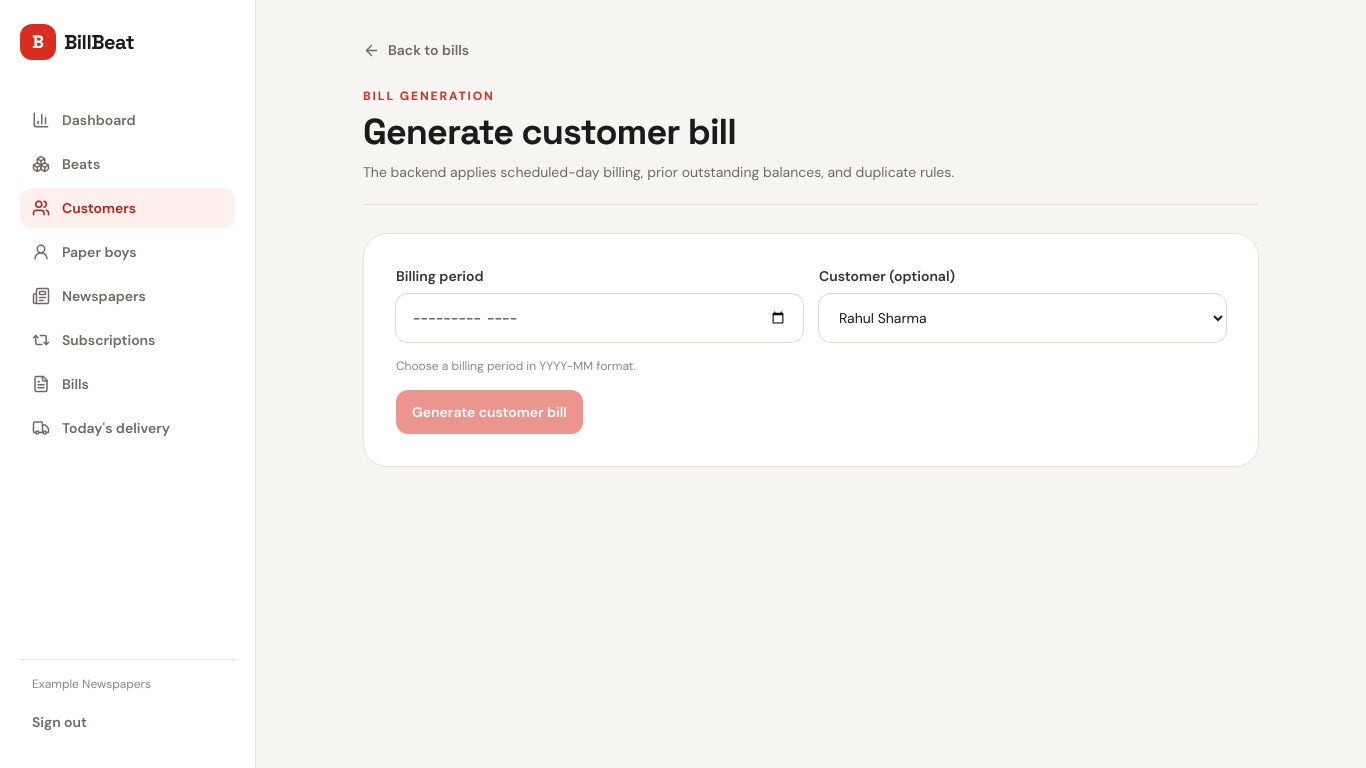
Scenario: bill generation › validates period, sends customer-specific payload, and displays generated bills
Check: the button "Generate customer bill" is disabled, box x1=396 y1=390 x2=583 y2=434
Type "2026-08" into the field labelled "Billing period". click: (600, 318)
box: x1=396 y1=294 x2=803 y2=342
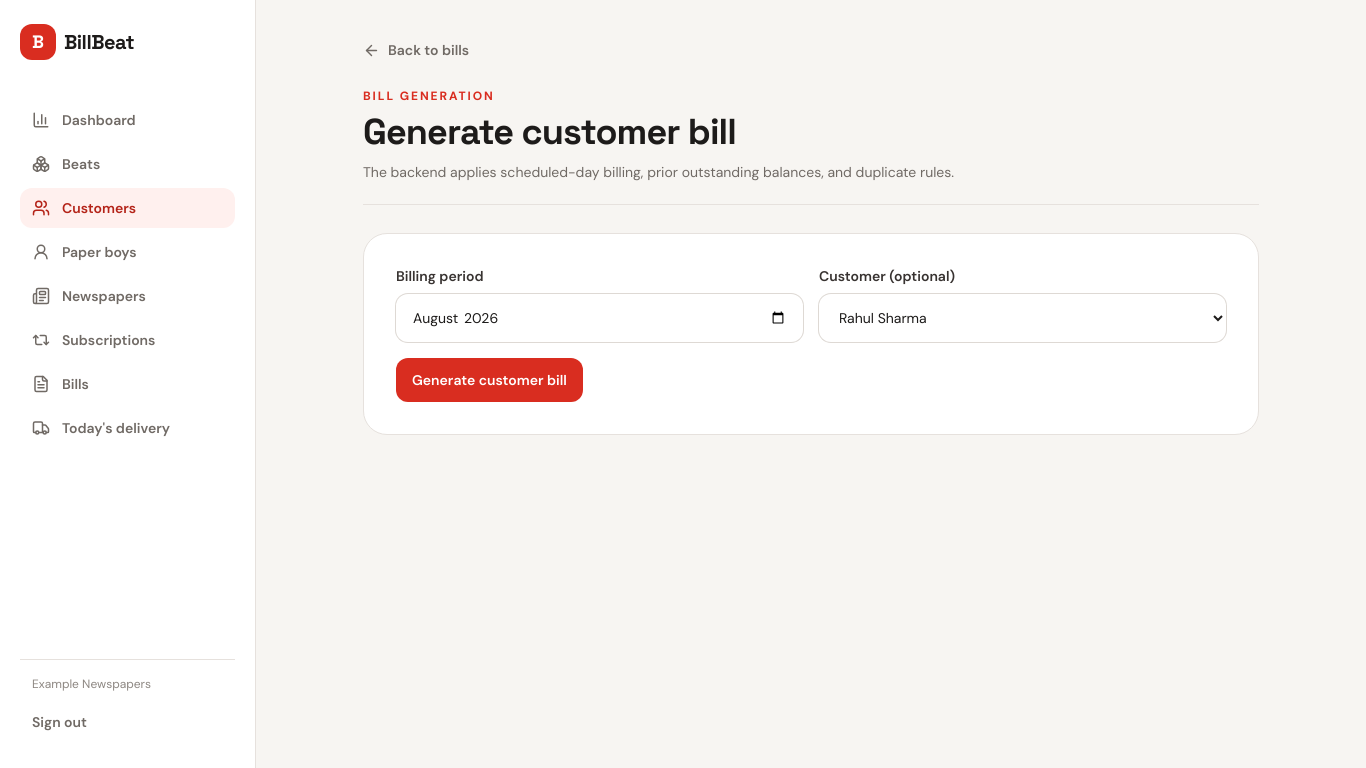
Click the button "Generate customer bill". click: click(489, 380)
box: x1=396 y1=358 x2=583 y2=402
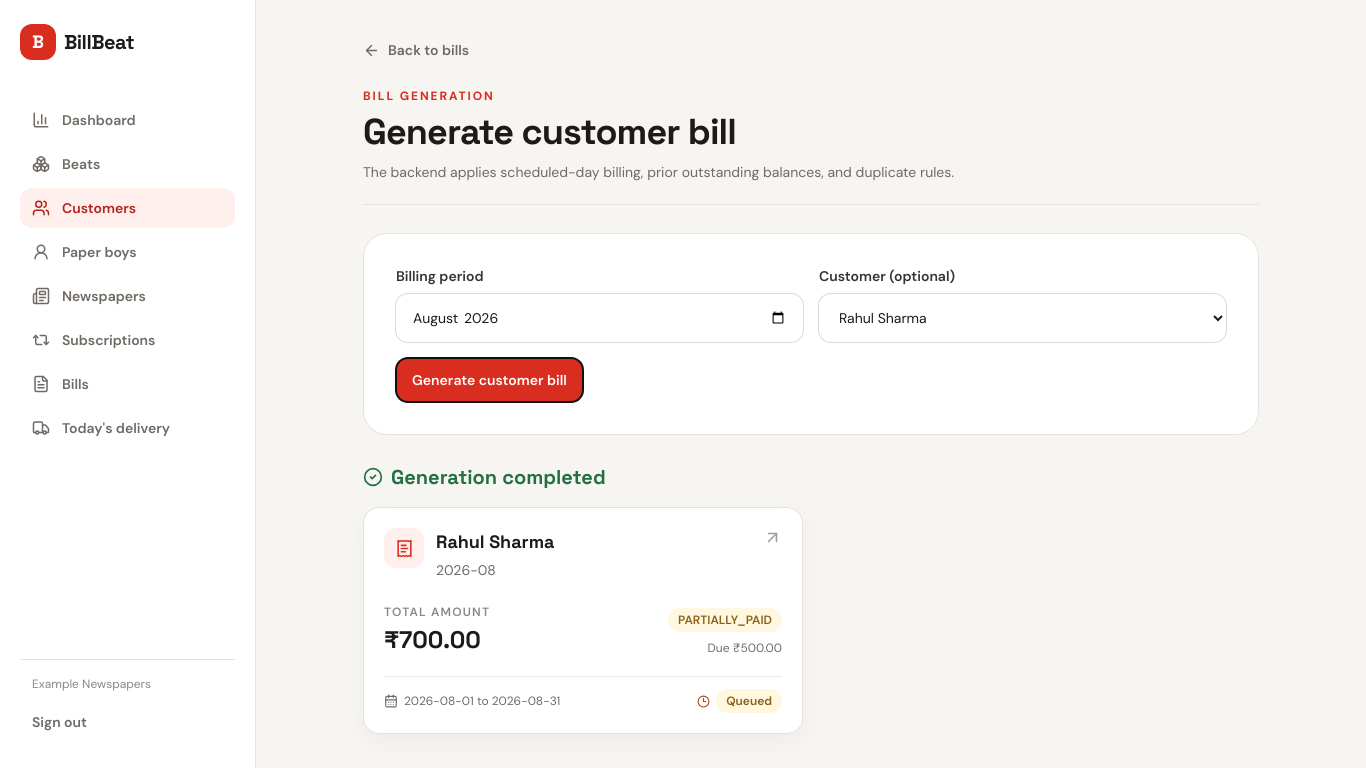
Check: the heading "Generation completed" is shown, box x1=391 y1=463 x2=606 y2=491
Check: the text "₹700.00" is shown, box x1=384 y1=624 x2=490 y2=656
